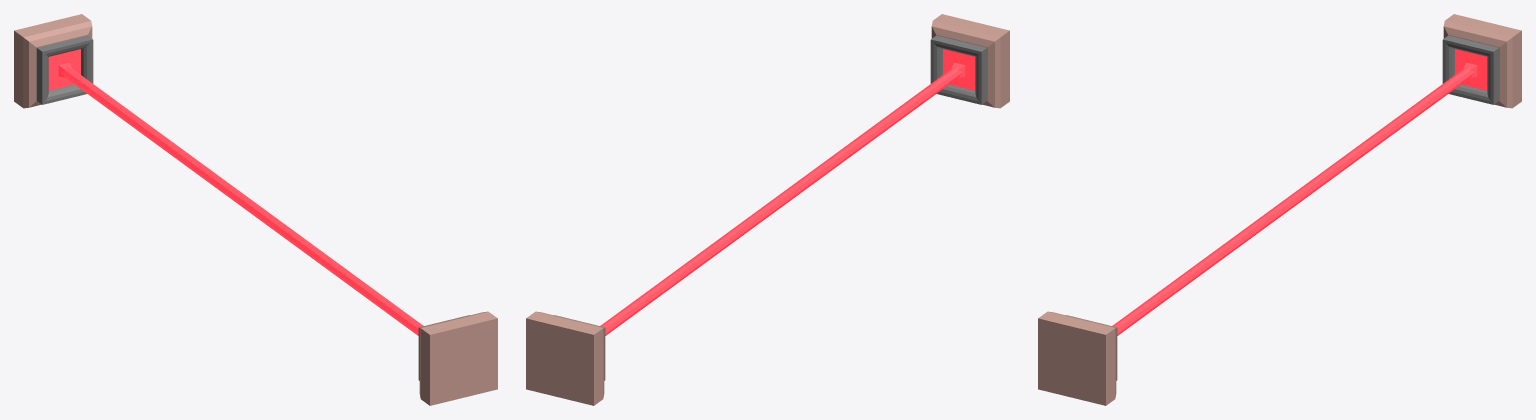
Rendered from LaserAsset.fbx.
3 views of the same model, side by side, from view 1: azimuth 30°, elevation 25°; view 2: azimuth 150°, elevation 25°; view 3: azimuth 330°, elevation 25° (orthographic).
Visible parts, largest first — view 1: Cylinder.001; view 2: Cylinder.001; view 3: Cylinder.001.
Boxes of the visible parts, box(x1,y1,x2,y2) form: Cylinder.001: box(14, 14, 497, 405); Cylinder.001: box(526, 14, 1009, 405); Cylinder.001: box(1038, 14, 1521, 405).
Bounding box in the file's own units: 79.42 × 79.42 × 843.
